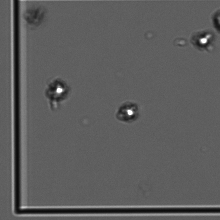Dead Cell: (23, 6, 44, 26)
Living Cell: (46, 77, 69, 105), (115, 100, 138, 124), (194, 28, 215, 54)
